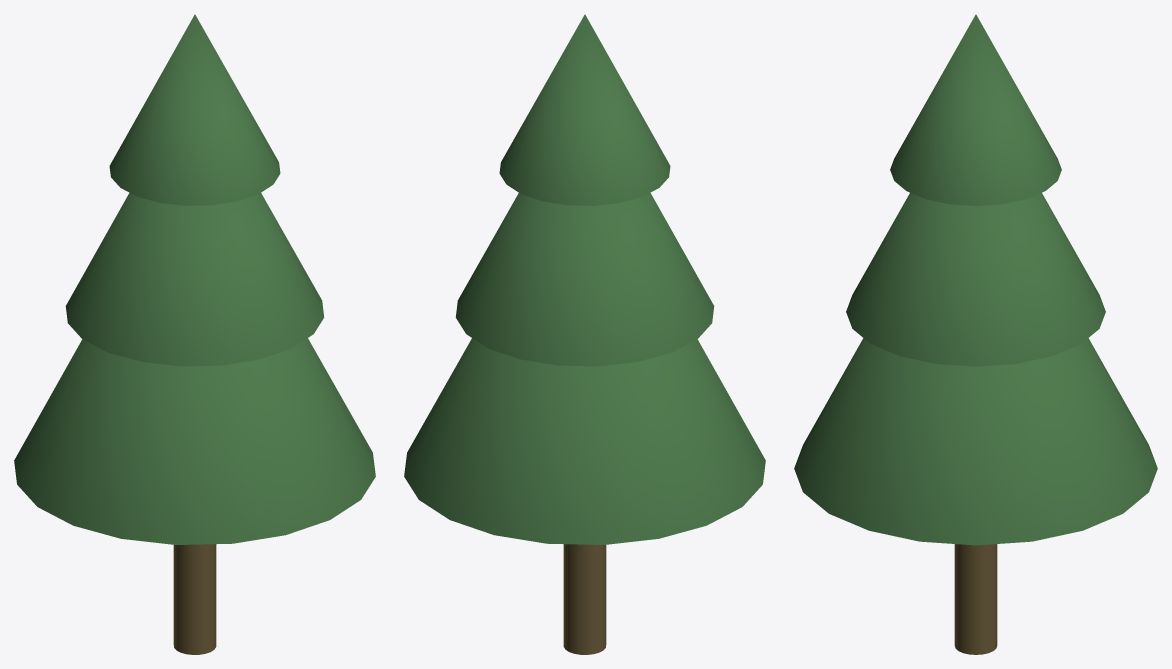
File: theTree.fbx
3 renders of one model, left to right at view 1: azimuth 30°, elevation 25°; view 2: azimuth 150°, elevation 25°; view 3: azimuth 270°, elevation 25°, orthographic.
Visible parts, largest first — view 1: pCone3, pCone2, pCone1, pCylinder1; view 2: pCone3, pCone2, pCone1, pCylinder1; view 3: pCone3, pCone2, pCone1, pCylinder1.
Part boxes in pixels (x1=…): pCone3: x1=14, y1=338, x2=375, y2=544; pCone2: x1=65, y1=192, x2=324, y2=366; pCone1: x1=109, y1=14, x2=280, y2=205; pCylinder1: x1=173, y1=544, x2=216, y2=654; pCone3: x1=404, y1=338, x2=765, y2=544; pCone2: x1=455, y1=192, x2=714, y2=366; pCone1: x1=499, y1=14, x2=670, y2=205; pCylinder1: x1=563, y1=544, x2=606, y2=654; pCone3: x1=794, y1=338, x2=1157, y2=545; pCone2: x1=846, y1=193, x2=1105, y2=366; pCone1: x1=890, y1=14, x2=1061, y2=205; pCylinder1: x1=954, y1=544, x2=997, y2=654.
Bounding box in the file's own units: 8.73 × 16.74 × 8.73.
